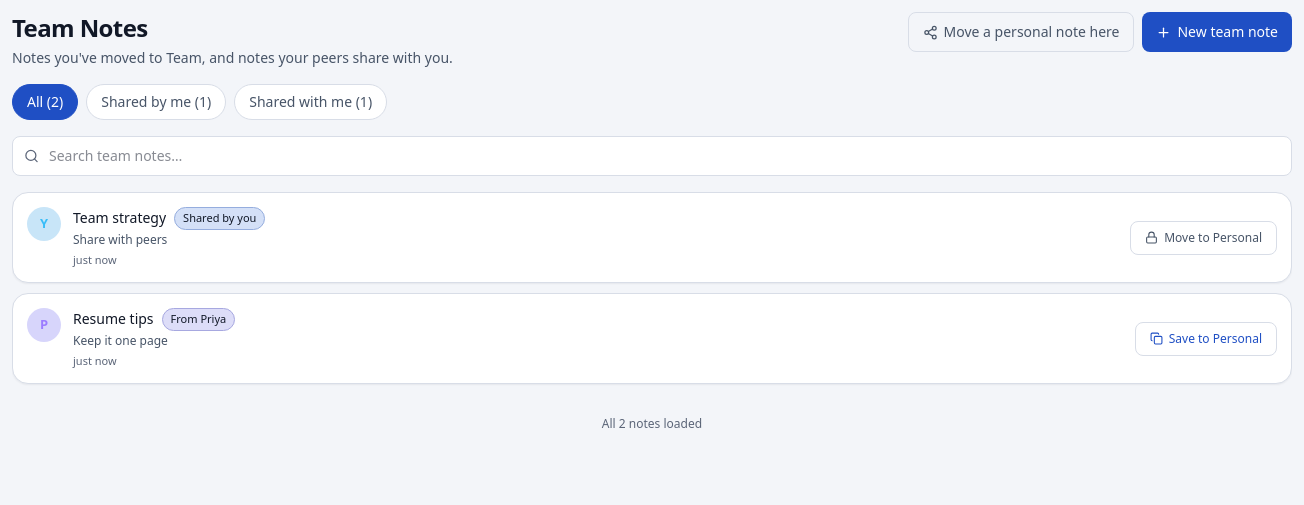
Scenario: Team notes › saves a peer's note to Personal as my own copy
The image size is (1304, 505).
Click the button with aria-label "Save Resume tips to Personal" at (1206, 338), box [1135,322,1277,356]
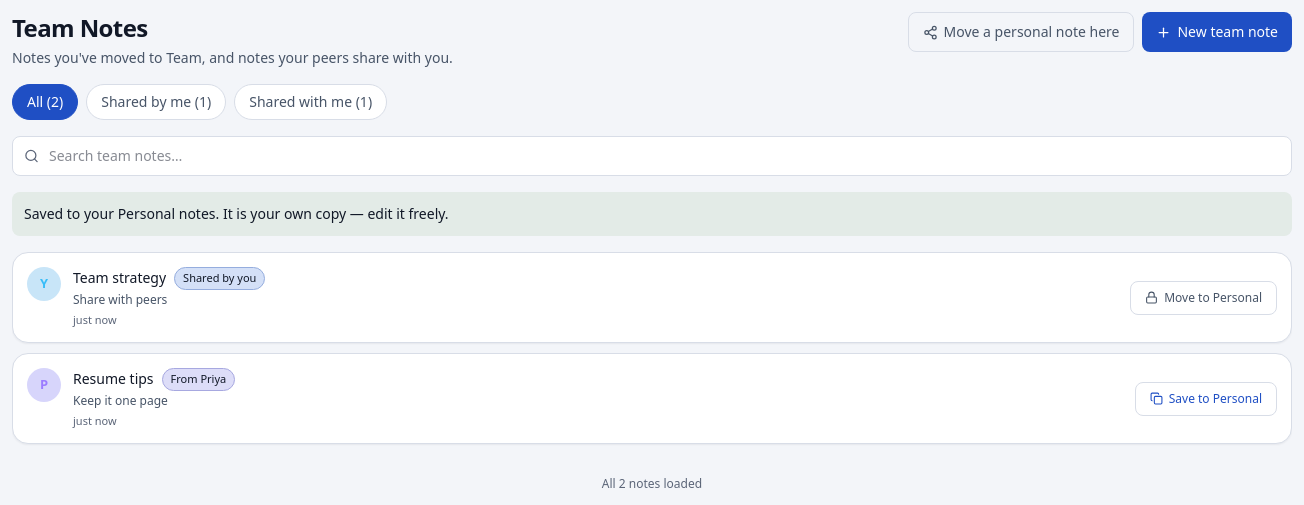
Result: the message shows "Saved to your Personal notes" at [24,204,449,223]
